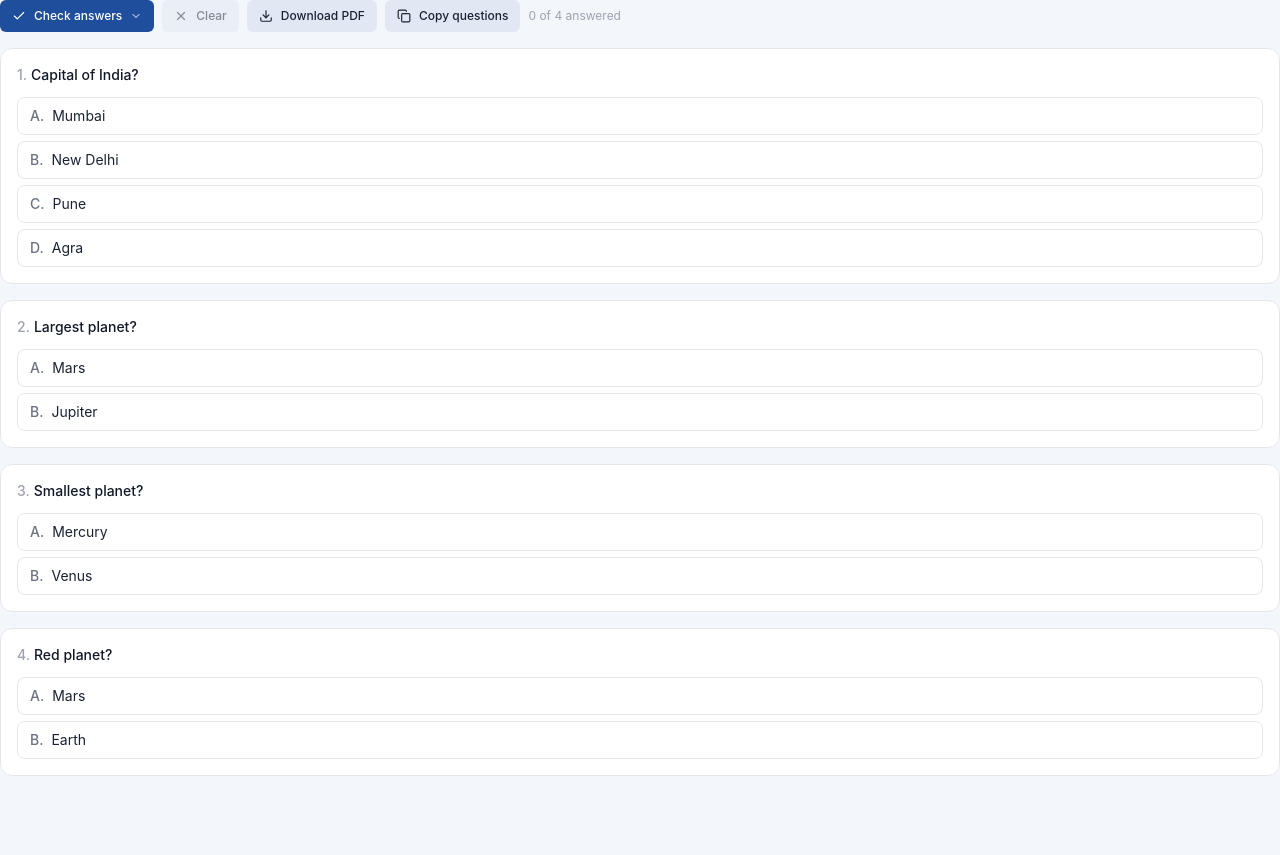
Test case: Check answers › an unattempted question can still be answered and checked afterwards
Click the radio button labelled "B. New Delhi". click: (85, 160)
box: [17, 141, 1263, 179]
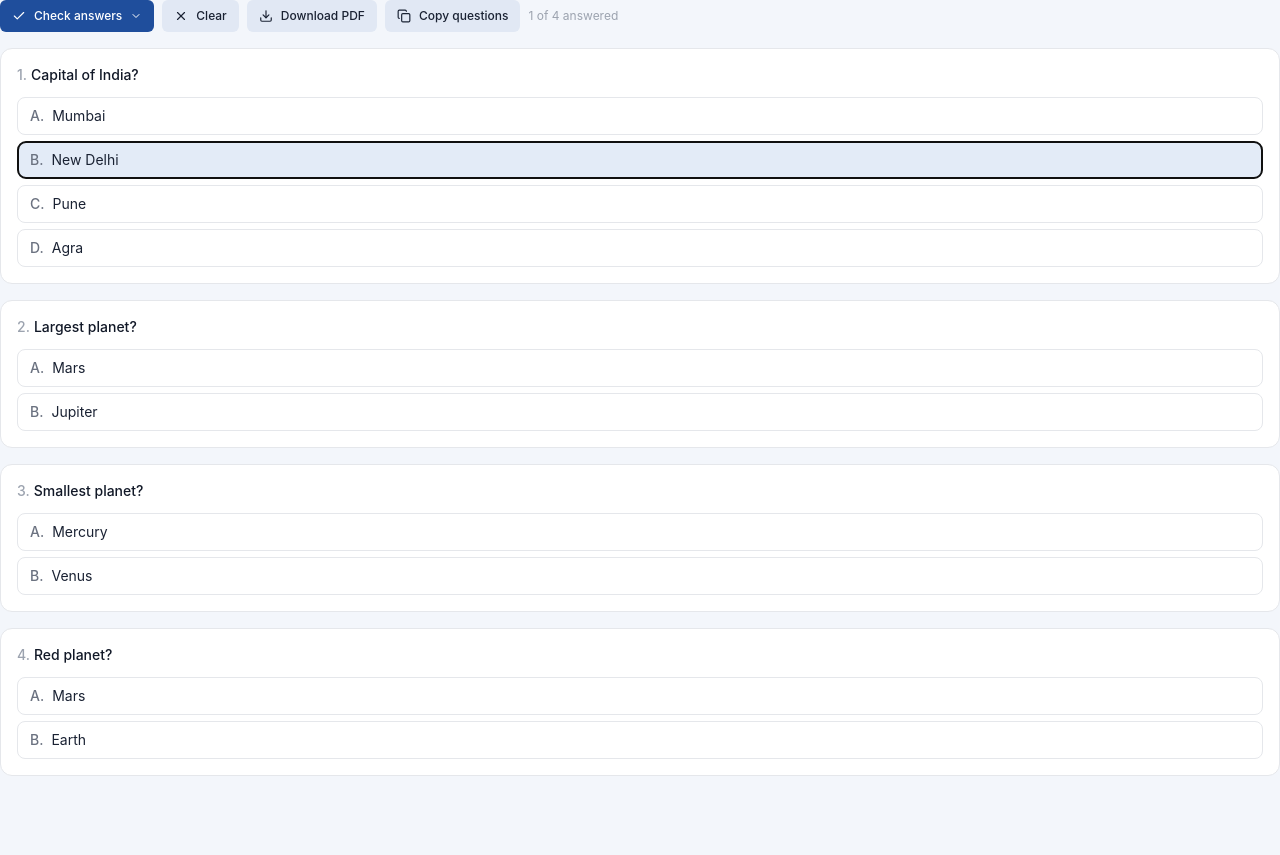
Click the button "Check answers". click: (77, 16)
box: [0, 0, 154, 32]
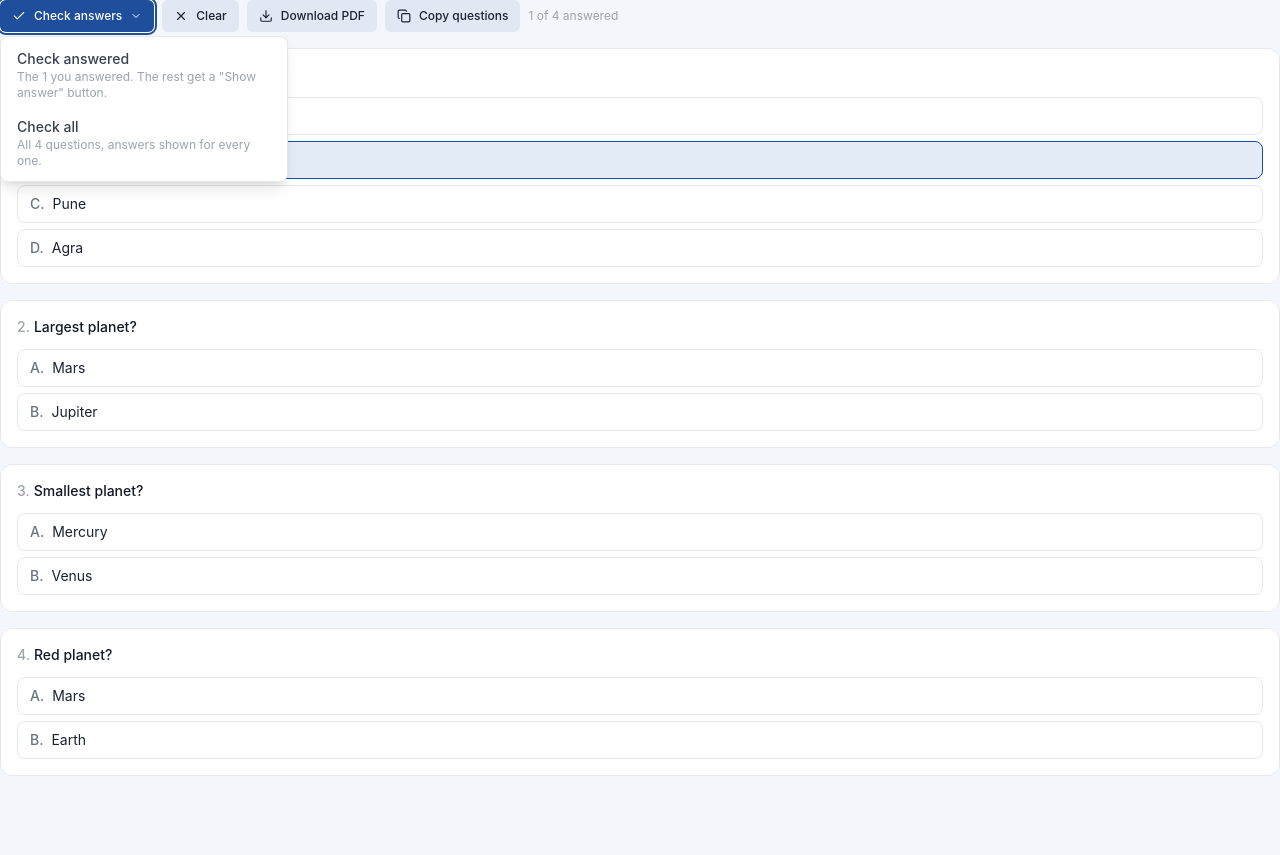
Click the menu item "Check answered". click: (144, 75)
box: [1, 41, 287, 109]
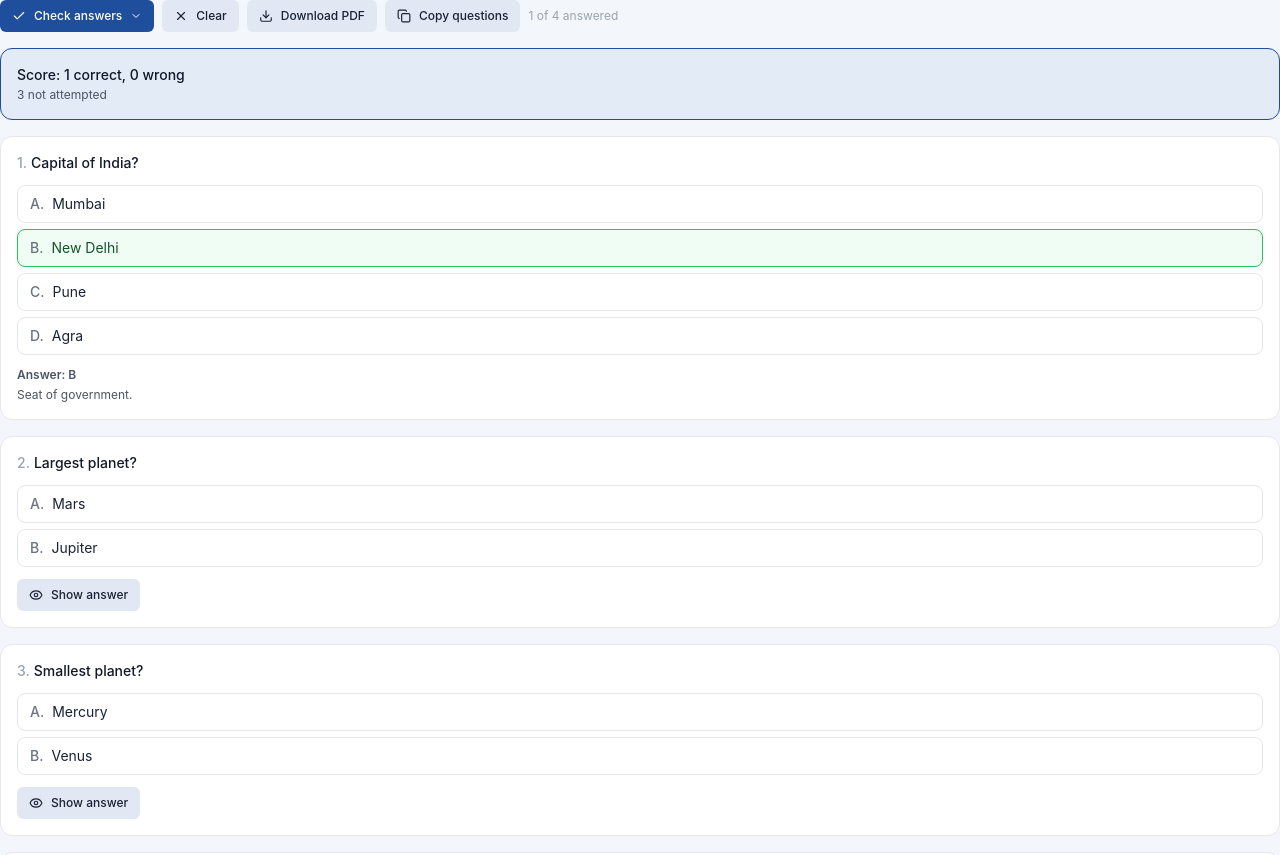
Click the radio button labelled "B. Venus". click: (72, 756)
box: [17, 737, 1263, 775]
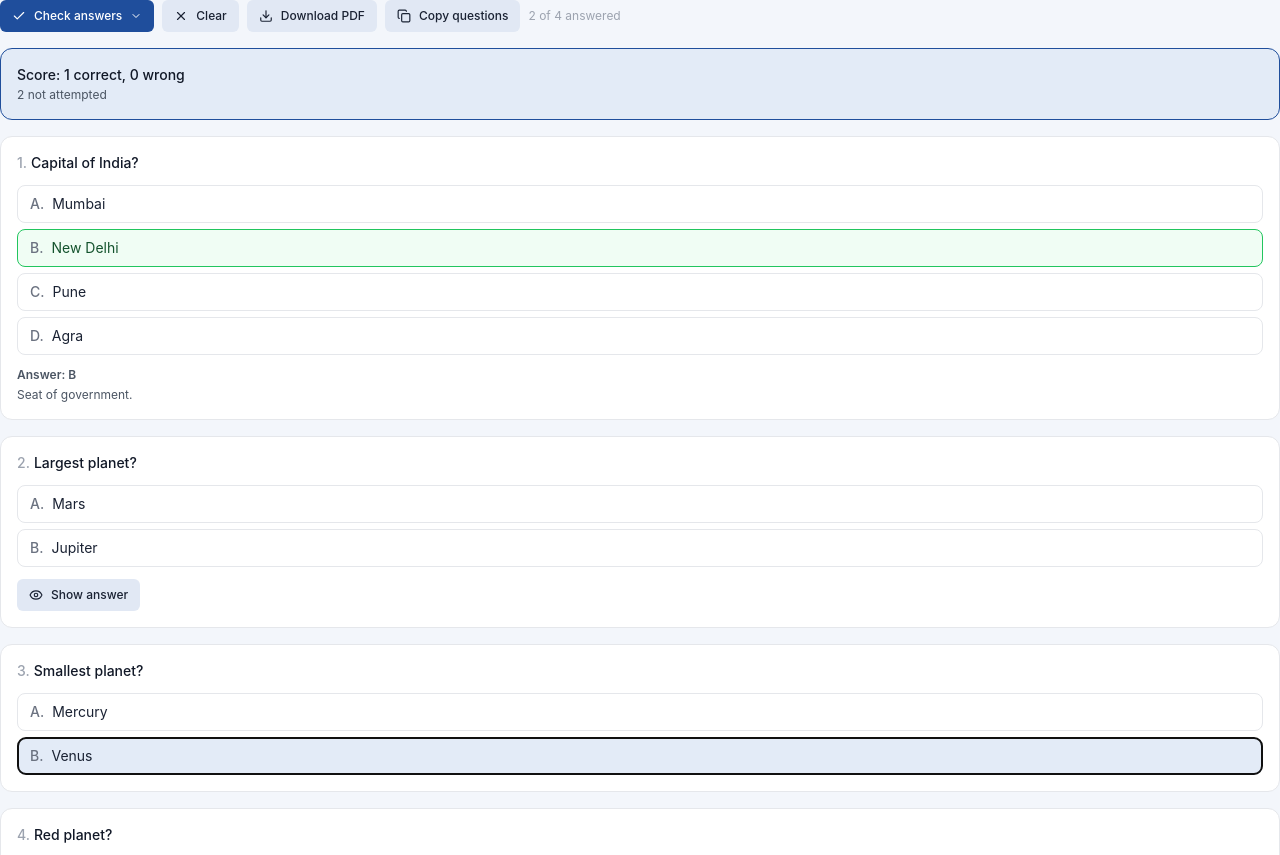
Click the button "Check answers". click: (77, 16)
box: [0, 0, 154, 32]
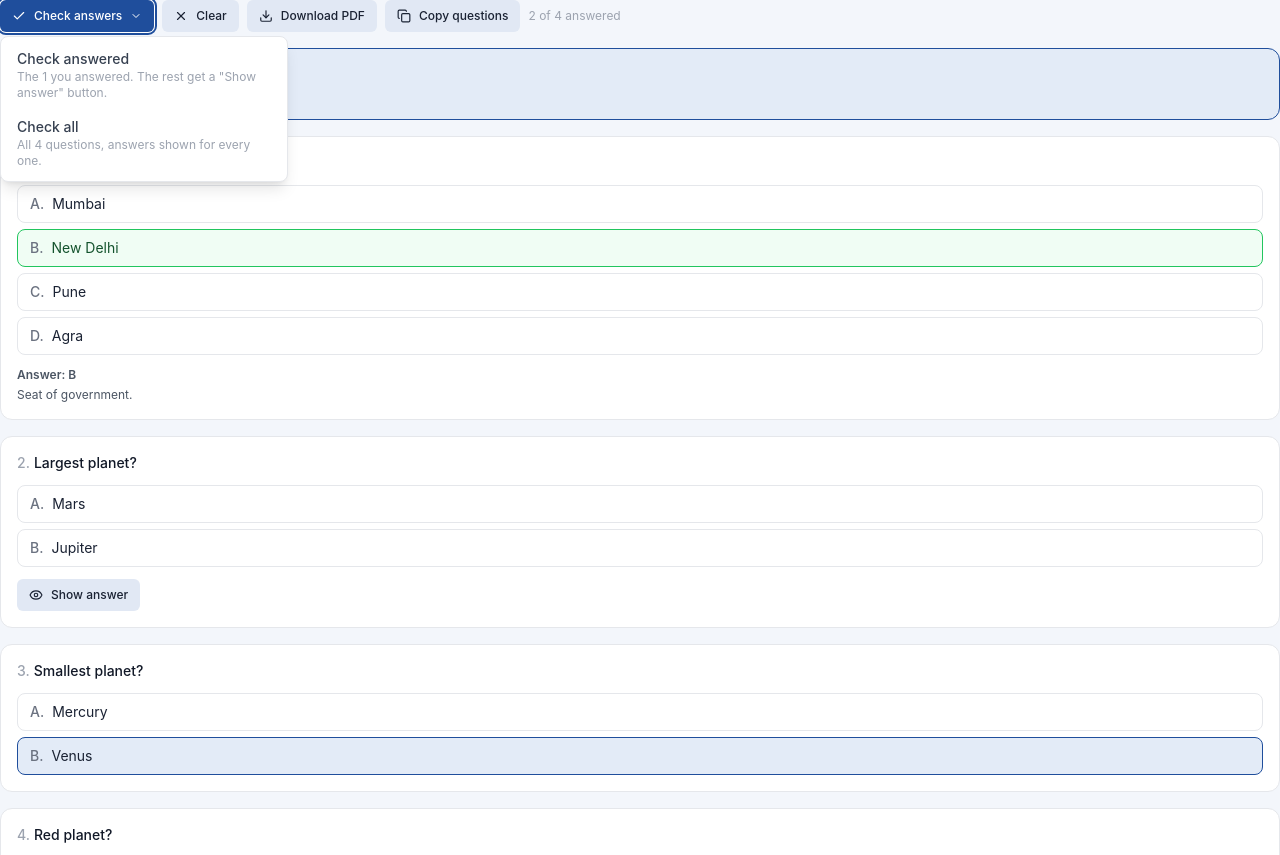
Click the menu item "Check answered". click: (144, 75)
box: [1, 41, 287, 109]
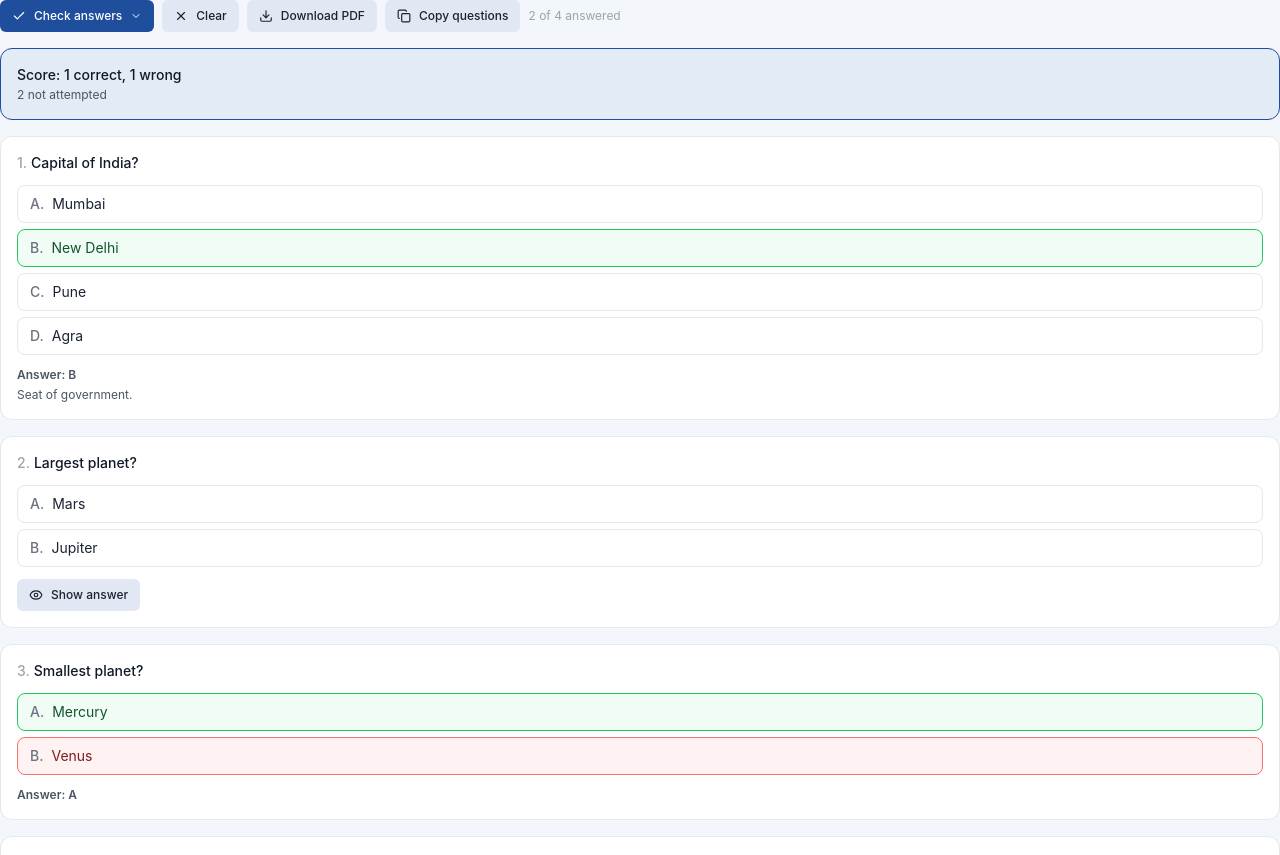
Check: the text "Score: 1 correct, 1 wrong" is shown, box [17, 66, 182, 83]
